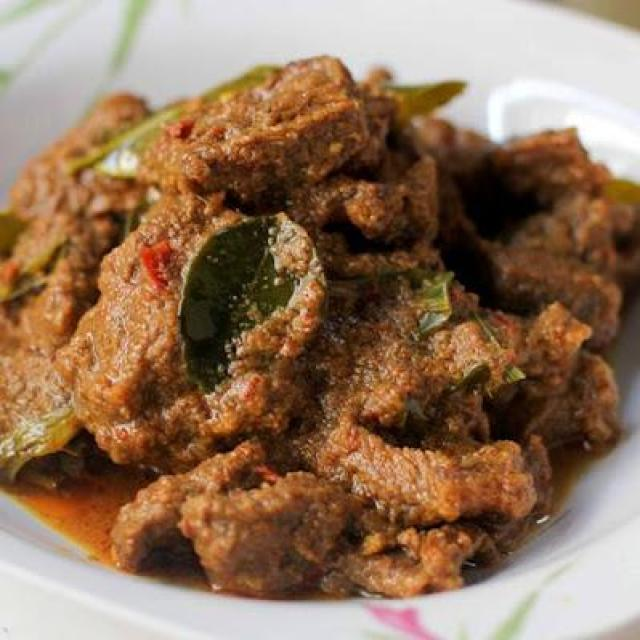Rendang: (0, 65, 640, 597)
